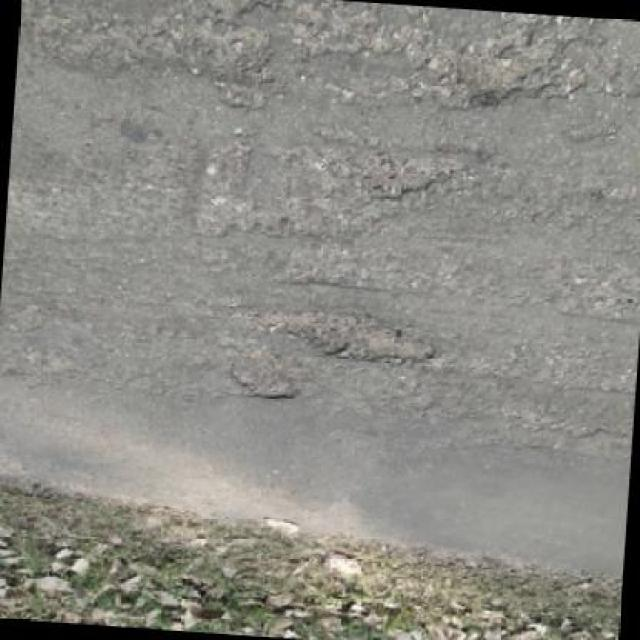pothole: (271, 311, 440, 371), (432, 33, 538, 115), (349, 149, 463, 209), (195, 24, 278, 78), (224, 363, 301, 406)
